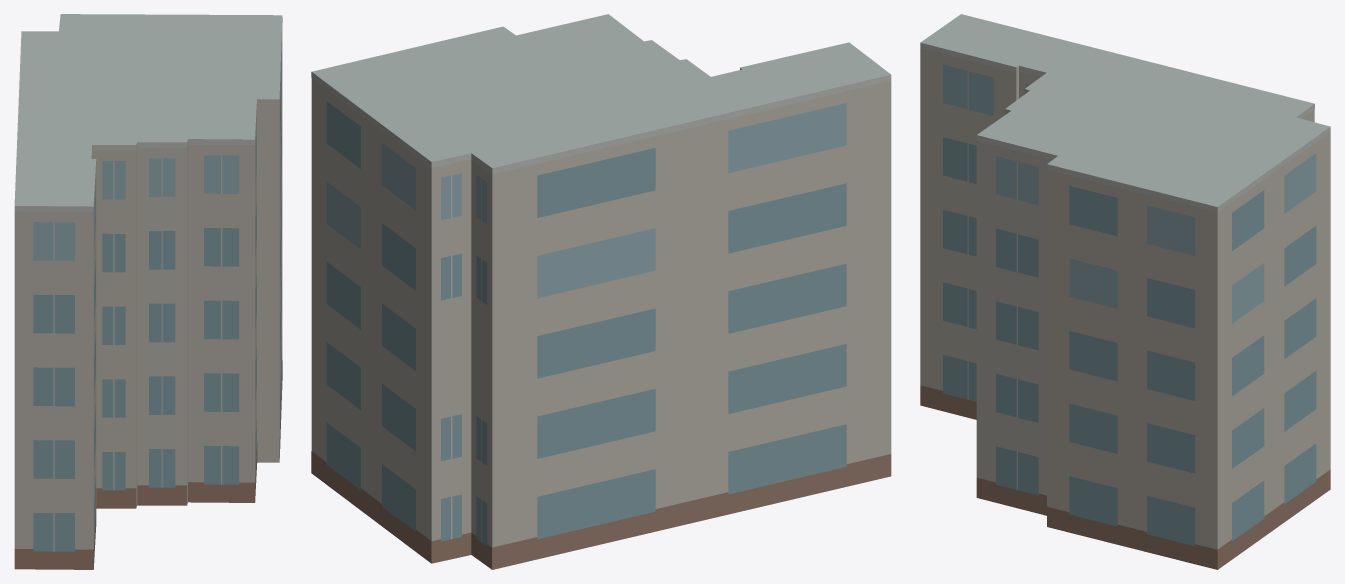
File: survey-upis-32915932.glb
3 views of the same model, side by side, from view 1: azimuth 30°, elevation 25°; view 2: azimuth 150°, elevation 25°; view 3: azimuth 270°, elevation 25° (orthographic). The views are drawn at different scales.
Visible parts, largest first — view 1: survey-upis-32915932.tmp; view 2: survey-upis-32915932.tmp; view 3: survey-upis-32915932.tmp.
Part boxes in pixels (left/top/right/bottom): survey-upis-32915932.tmp: left=14, top=14, right=282, bottom=569; survey-upis-32915932.tmp: left=311, top=14, right=891, bottom=569; survey-upis-32915932.tmp: left=920, top=14, right=1330, bottom=569.
Size of the model in its own units: 18.27 by 16 by 16.41.
